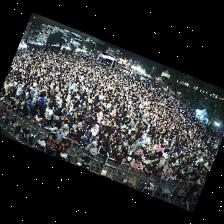person: (96, 145, 109, 169), (110, 148, 124, 163), (124, 142, 137, 158), (41, 105, 51, 125), (129, 157, 142, 171), (67, 129, 79, 144), (72, 123, 82, 140), (144, 140, 156, 154), (46, 120, 60, 132), (52, 102, 61, 120), (142, 162, 154, 175), (84, 142, 96, 155), (26, 94, 36, 109), (90, 124, 98, 142), (61, 116, 72, 129), (59, 106, 69, 120), (36, 91, 44, 108), (24, 95, 31, 114), (90, 135, 101, 147), (80, 111, 90, 124), (108, 138, 118, 151), (57, 124, 67, 137), (141, 132, 150, 146), (30, 112, 41, 123), (79, 136, 89, 148), (99, 132, 109, 144), (157, 154, 165, 168), (162, 163, 173, 173), (184, 175, 194, 186), (168, 169, 177, 181), (155, 142, 165, 152), (80, 130, 90, 140), (117, 139, 126, 150), (175, 173, 186, 182), (18, 104, 27, 115), (141, 155, 150, 166), (144, 150, 154, 159), (120, 128, 127, 140), (134, 138, 141, 150), (106, 123, 114, 133), (131, 151, 142, 158), (15, 84, 21, 96), (81, 119, 86, 132), (122, 157, 130, 165), (96, 112, 102, 122), (151, 158, 159, 165), (52, 151, 60, 158), (3, 95, 9, 104)
